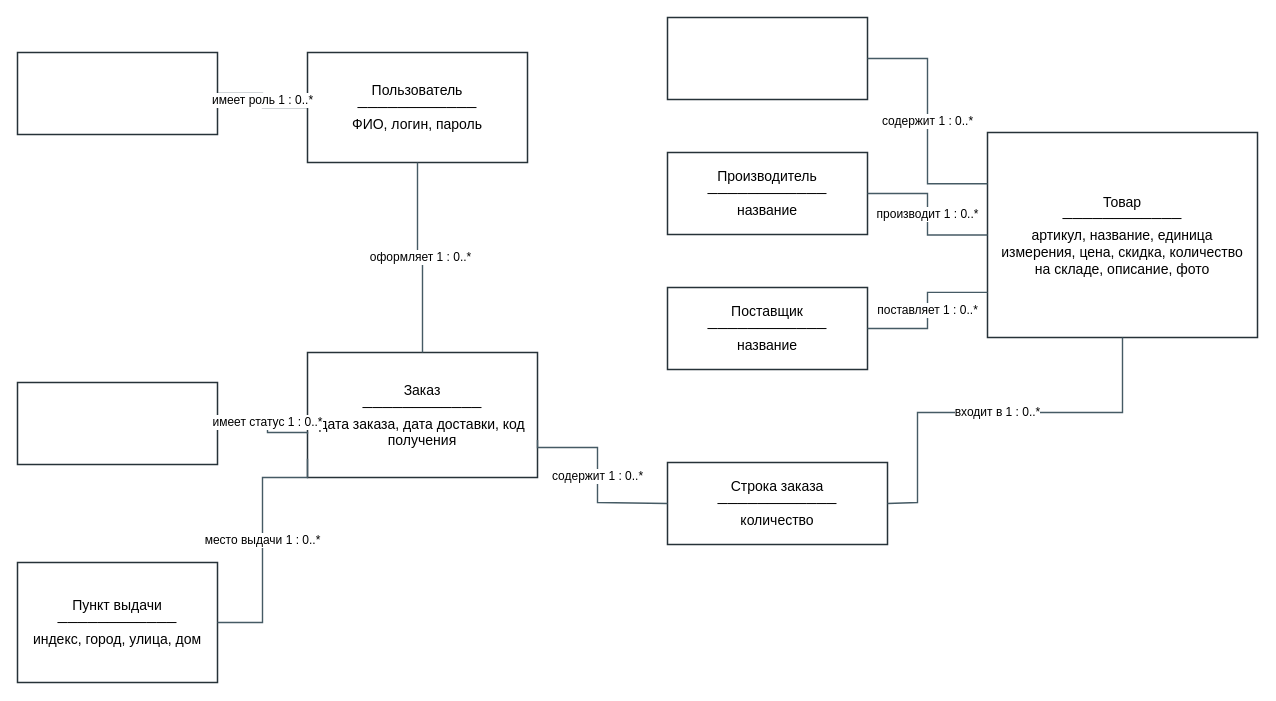
Image size: 1276x701. Some labels were removed from this diagram. The shapes that lost their labels are listed below. From the top down, each one's centre as x and y in pixels, then its label:
the point at 767,58: Категория ──────────── название
the point at 117,93: Роль ──────────── название
the point at 117,423: Статус заказа ──────────── название
